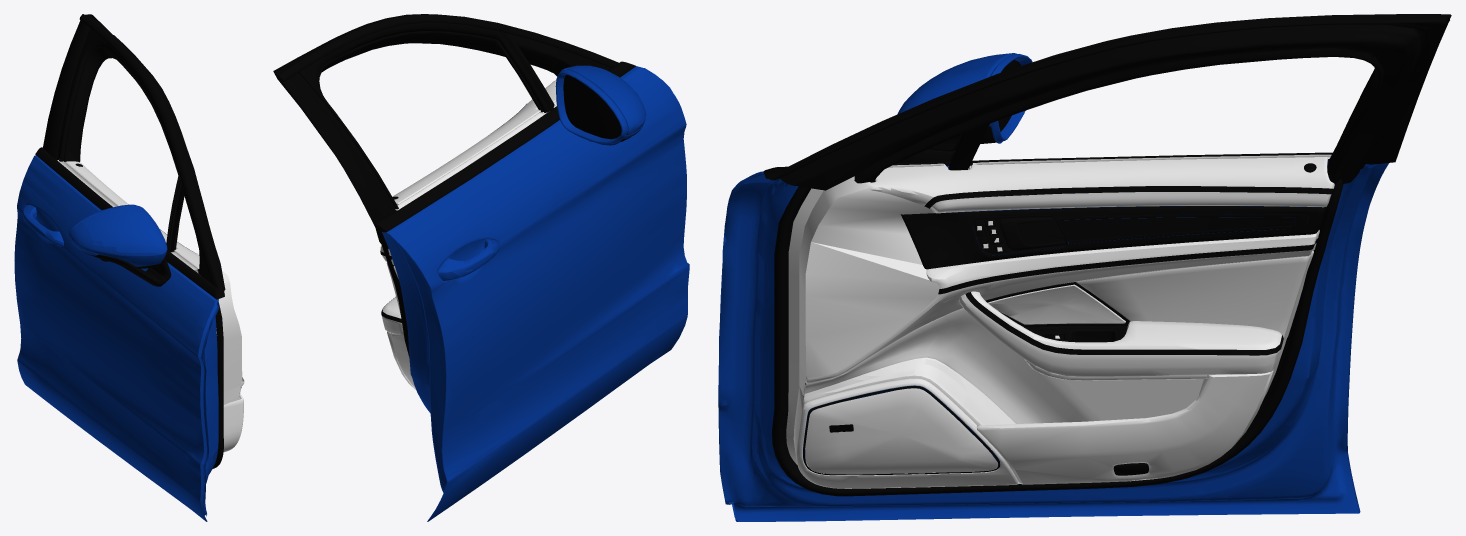
File: Dreapta_Fata_Albastru.fbx
3 views of the same model, side by side, from view 1: azimuth 30°, elevation 25°; view 2: azimuth 150°, elevation 25°; view 3: azimuth 270°, elevation 25° (orthographic). The views are drawn at different scales.
Visible parts, largest first — view 1: door_RF; view 2: door_RF; view 3: door_RF.
Part boxes in pixels (x1,y1,x2,y2): door_RF: (14, 14, 244, 521); door_RF: (273, 14, 689, 521); door_RF: (718, 14, 1451, 521).
Size of the model in its own units: 923 by 1977 by 2275.
